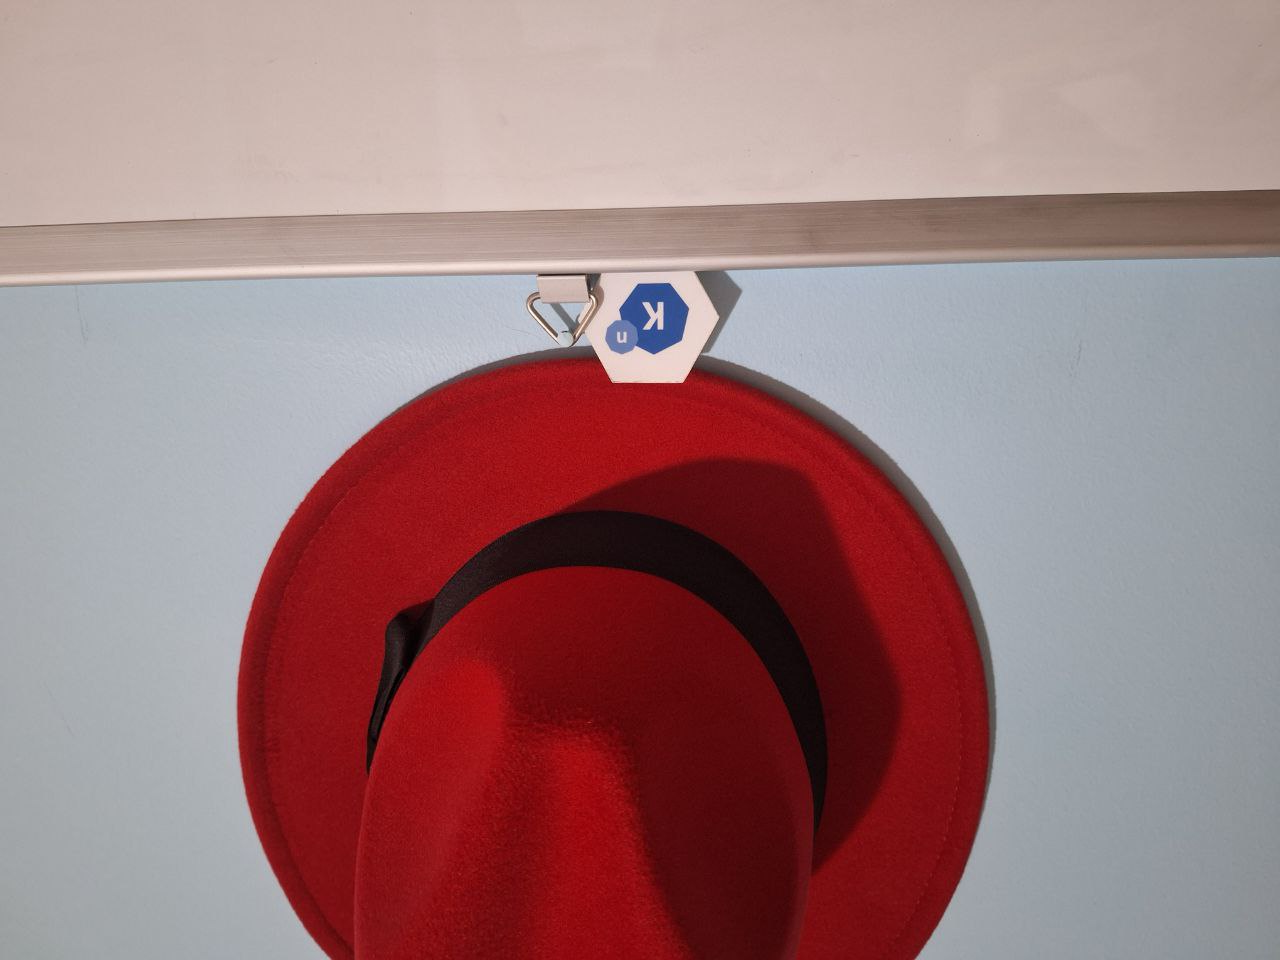knative: (604, 283, 689, 358)
